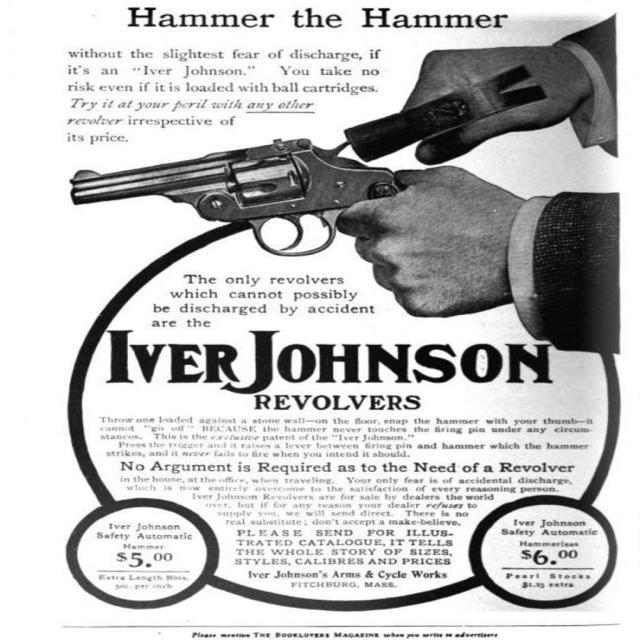Gun: (71, 139, 400, 254)
